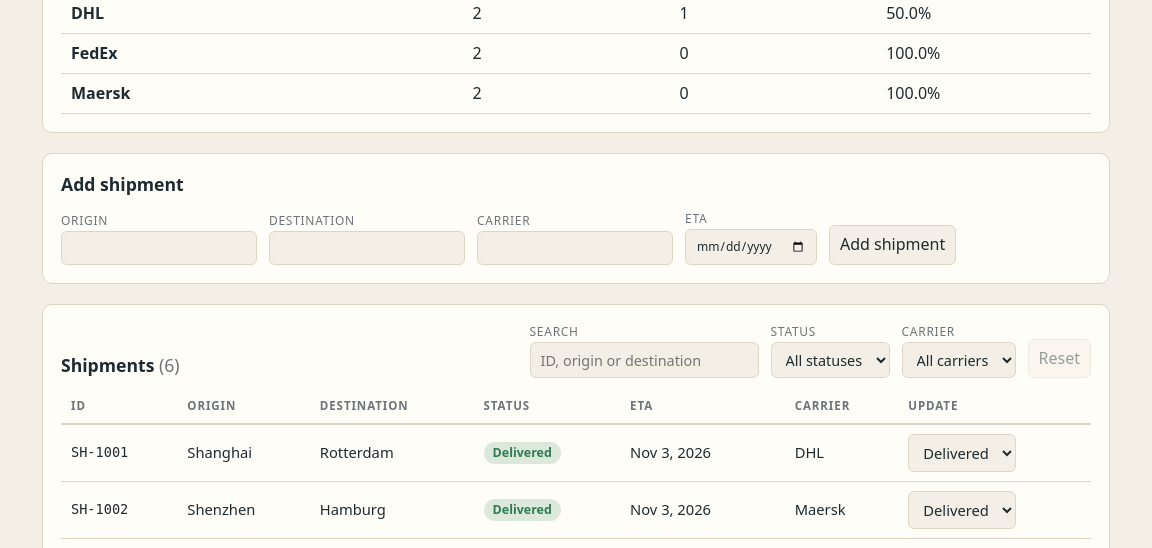
it: App › enables Reset for a search term and clears it on click
(page scrolled)
Expected: the text "SH-1001" is shown, [61,424,177,481]
Step 1. Type "Tokyo" into the search field labelled "Search" → (644, 360), box [530,342,758,378]
(page scrolled)
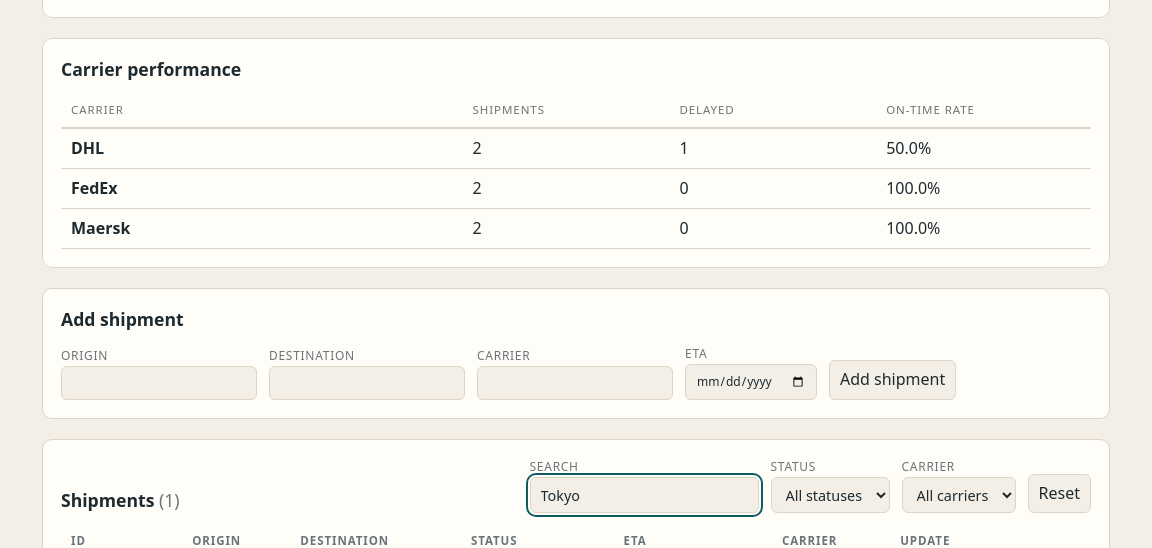
Expected: the button "Reset" is enabled
Step 2. Click the button "Reset" → (1059, 493), box [1028,474,1091,513]
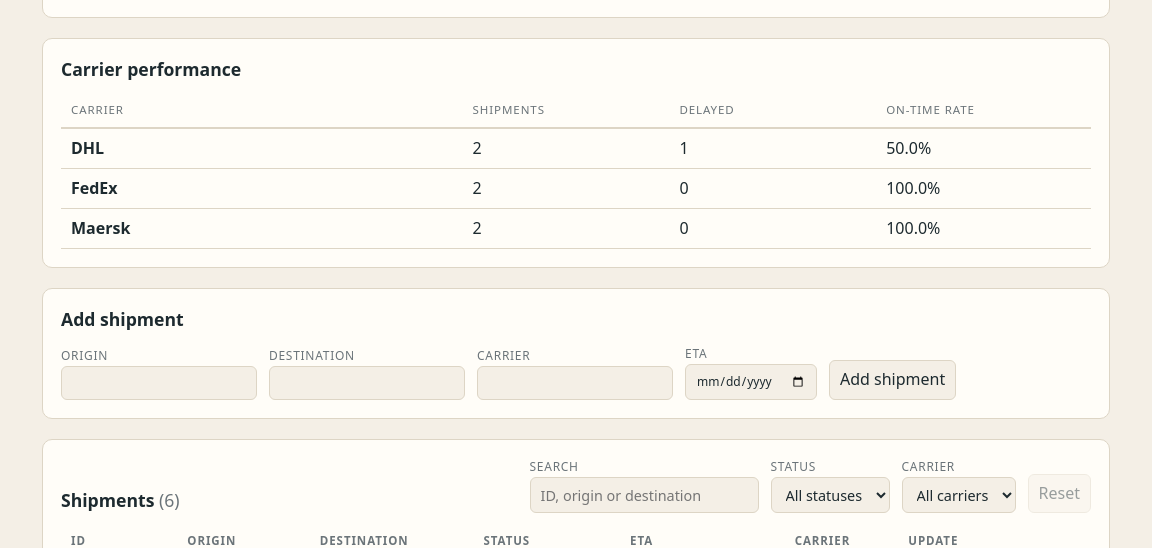
Expected: the search field labelled "Search" is empty, [530,477,758,513]
Expected: the button "Reset" is disabled, [1028,474,1091,513]
